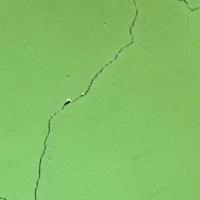crack: (27, 1, 146, 199)
